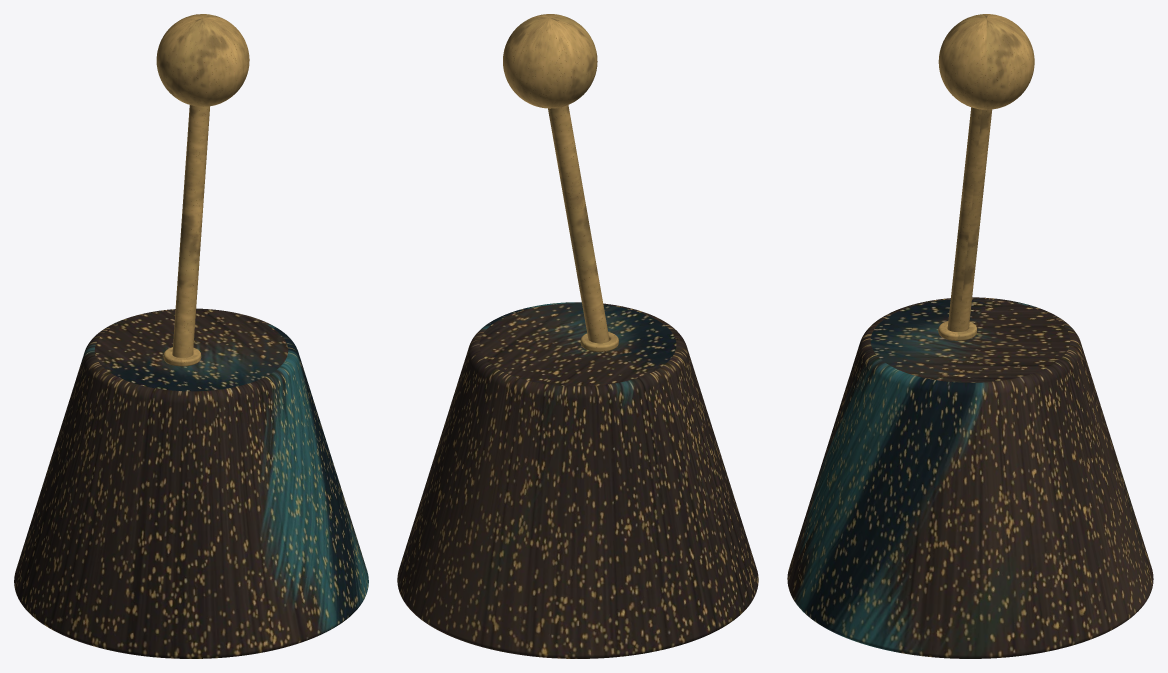
Rendered from pawn-black-hd.glb.
The picture shows the model from 3 angles, left to right: view 1: azimuth 30°, elevation 25°; view 2: azimuth 150°, elevation 25°; view 3: azimuth 270°, elevation 25°; orthographic projection. The views are drawn at different scales.
Visible parts, largest first — view 1: Telo, Hlavicka, Jehla; view 2: Telo, Hlavicka, Jehla; view 3: Telo, Hlavicka, Jehla.
Boxes of the visible parts, bbox=[...] form: Telo: bbox=[14, 308, 368, 658]; Hlavicka: bbox=[156, 14, 249, 106]; Jehla: bbox=[172, 105, 209, 357]; Telo: bbox=[397, 302, 758, 658]; Hlavicka: bbox=[503, 14, 597, 108]; Jehla: bbox=[548, 105, 609, 343]; Telo: bbox=[787, 297, 1153, 658]; Hlavicka: bbox=[938, 14, 1034, 109]; Jehla: bbox=[947, 107, 992, 331].
Bounding box in the file's own units: 0.6353 × 1.1 × 0.6352.
3 materials, 3 textured.
